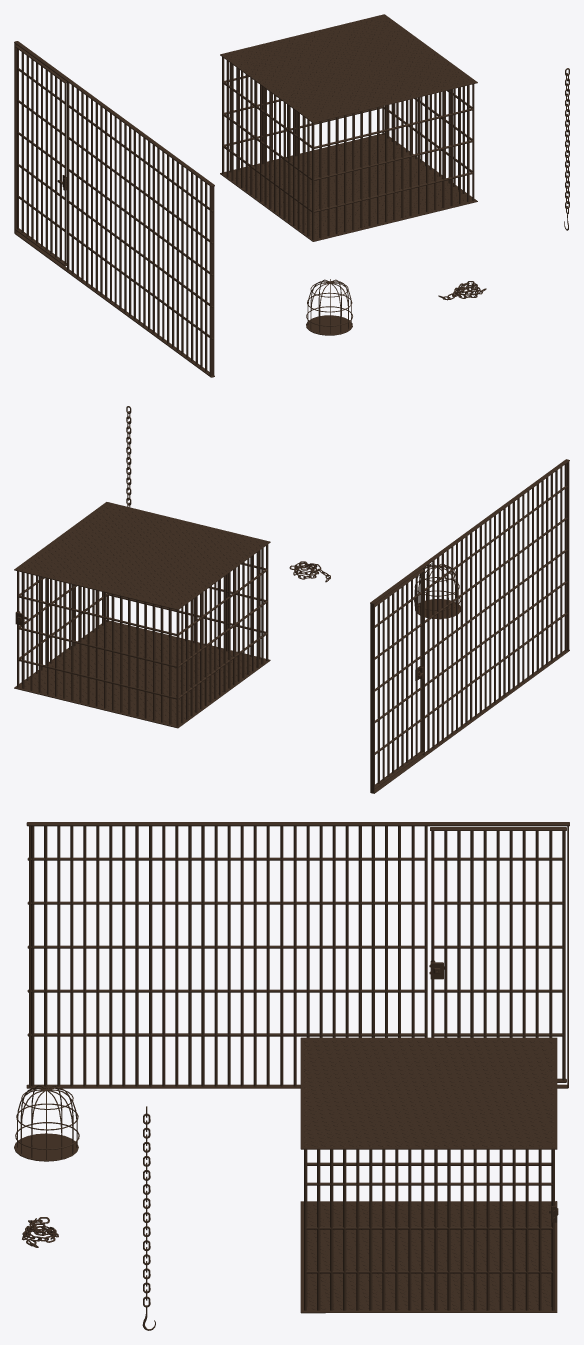
The model's file is Chains and Cages.fbx.
3 views of the same model, one above another, from view 1: azimuth 30°, elevation 25°; view 2: azimuth 150°, elevation 25°; view 3: azimuth 270°, elevation 25° (orthographic). The views are drawn at different scales.
Parts seen in each view (by area): view 1: TetoFerroGrande2, ChaoFerroGrande1, pCube152, pCube150, pCube151, pCylinder55, pCube153, BarraFerro140, BarraFerro107, BarraFerro134, BarraFerro128, BarraFerro108 (+32 smaller); view 2: TetoFerroGrande2, ChaoFerroGrande1, pCube150, pCube153, pCube151, pCube152, BarraFerro109, BarraFerro125, BarraFerro137, BarraFerro139, BarraFerro115, BarraFerro136 (+29 smaller); view 3: TetoFerroGrande2, ChaoFerroGrande1, pCube150, BarraFerro118, BarraFerro116, BarraFerro119, BarraFerro121, BarraFerro117, pCylinder55, pCube151, BarraFerro124, BarraFerro125 (+60 smaller).
Part boxes in pixels (x1,y1,x2,y2): TetoFerroGrande2: (220, 14, 477, 123); ChaoFerroGrande1: (220, 133, 477, 241); pCube152: (209, 186, 214, 376); pCube150: (14, 41, 214, 186); pCube151: (14, 232, 214, 377); pCylinder55: (306, 315, 352, 335); pCube153: (14, 43, 17, 233); BarraFerro140: (176, 162, 178, 350); BarraFerro107: (71, 85, 73, 273); BarraFerro134: (195, 176, 197, 364); BarraFerro128: (133, 130, 135, 319); BarraFerro108: (76, 89, 78, 277); TetoFerroGrande2: (14, 502, 270, 610); ChaoFerroGrande1: (14, 620, 270, 728); pCube150: (370, 459, 569, 604); pCube153: (370, 604, 374, 793); pCube151: (372, 650, 569, 793); pCube152: (564, 461, 569, 650); BarraFerro109: (437, 557, 439, 744); BarraFerro125: (508, 505, 510, 692); BarraFerro137: (546, 477, 548, 664); BarraFerro139: (527, 491, 529, 678); BarraFerro115: (470, 533, 472, 720); BarraFerro136: (541, 480, 543, 668); TetoFerroGrande2: (300, 1037, 557, 1149); ChaoFerroGrande1: (300, 1201, 557, 1313); pCube150: (26, 822, 569, 826); BarraFerro118: (27, 945, 425, 948); BarraFerro116: (27, 1033, 425, 1036); BarraFerro119: (27, 901, 425, 904); BarraFerro121: (27, 857, 425, 860); BarraFerro117: (27, 989, 425, 992); pCylinder55: (14, 1133, 78, 1161); pCube151: (26, 1084, 567, 1088); BarraFerro124: (201, 826, 204, 1086); BarraFerro125: (188, 826, 191, 1086).
Size of the model in its own units: 69.36 by 31.54 by 60.12.
